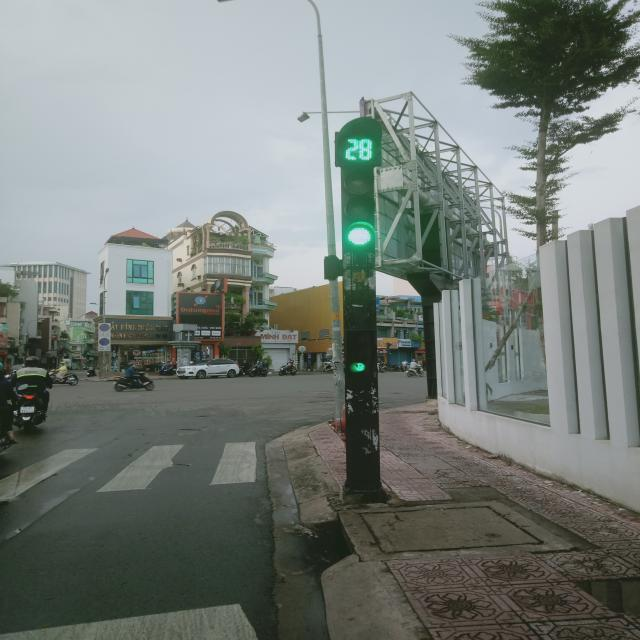Green: (335, 166, 384, 252), (340, 323, 380, 386)
